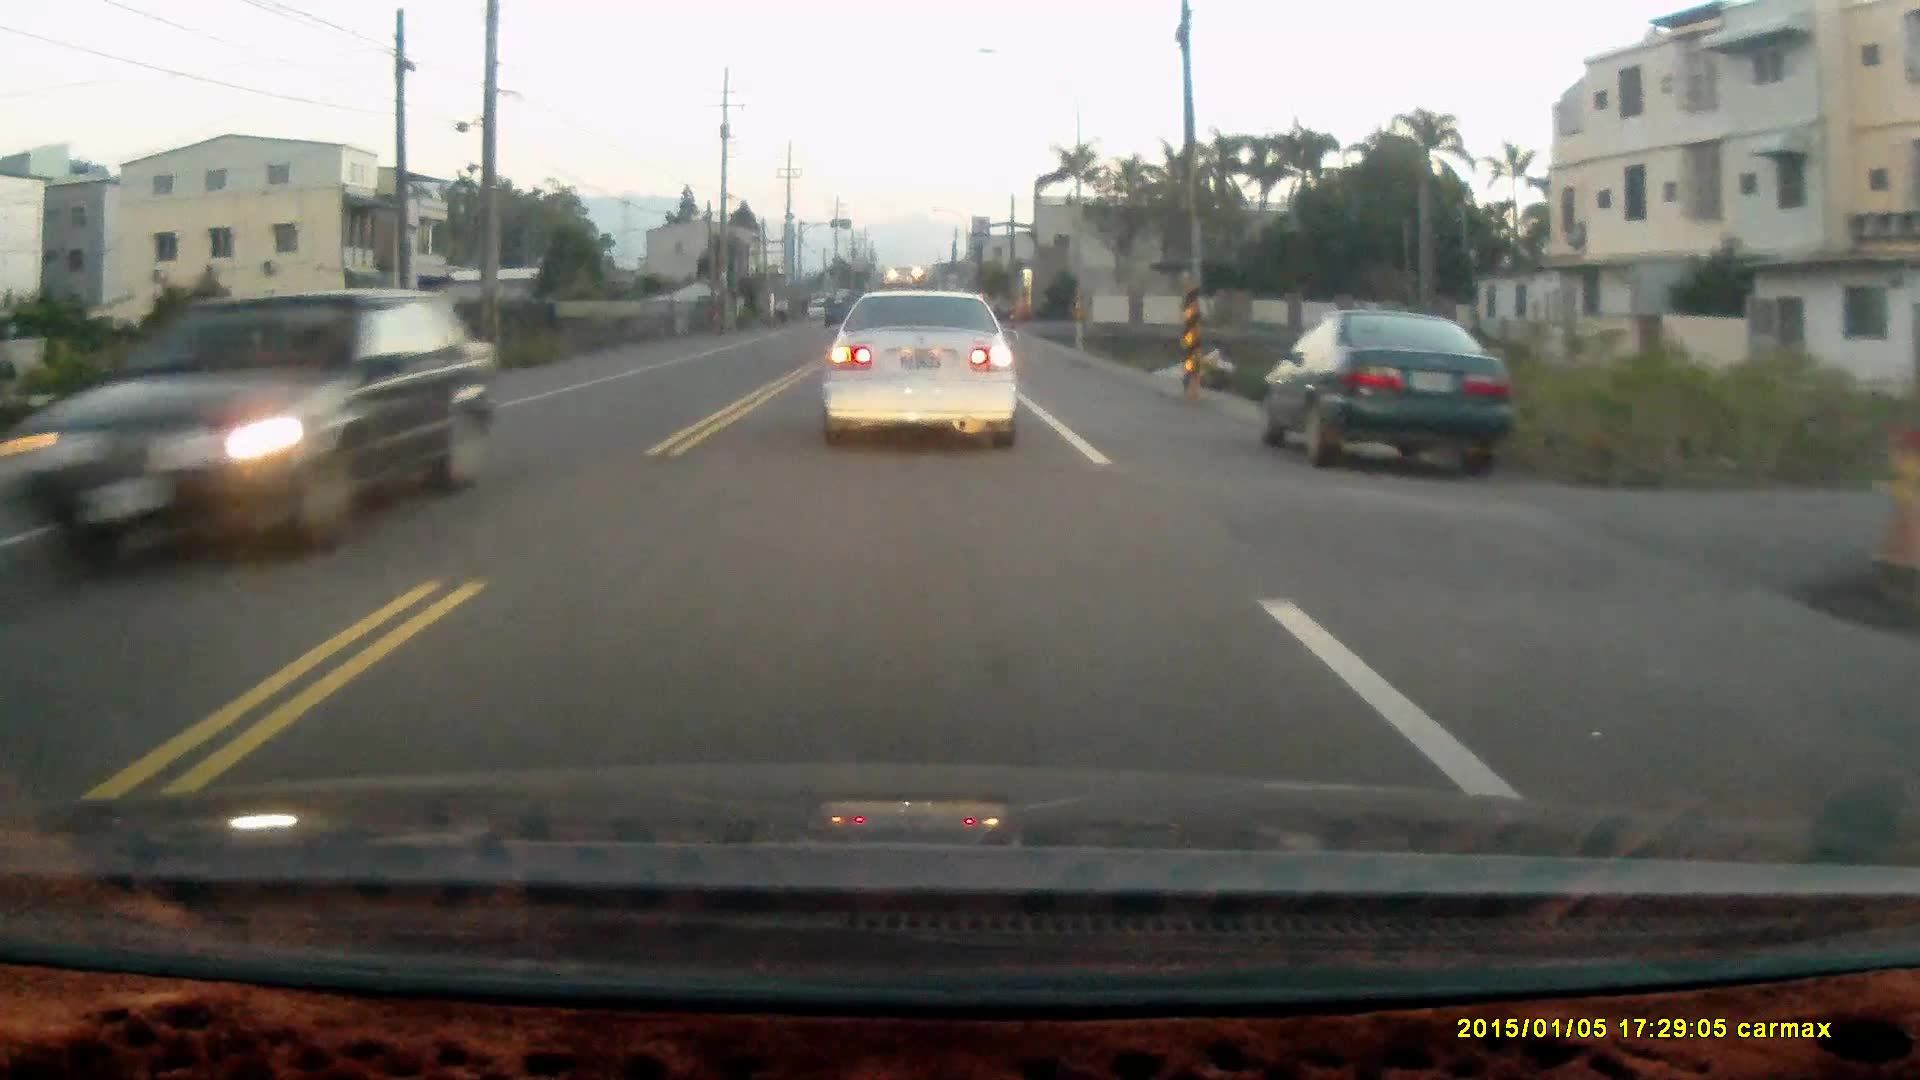vehicle: (37, 287, 479, 579), (1255, 309, 1515, 473), (822, 284, 1017, 443)
